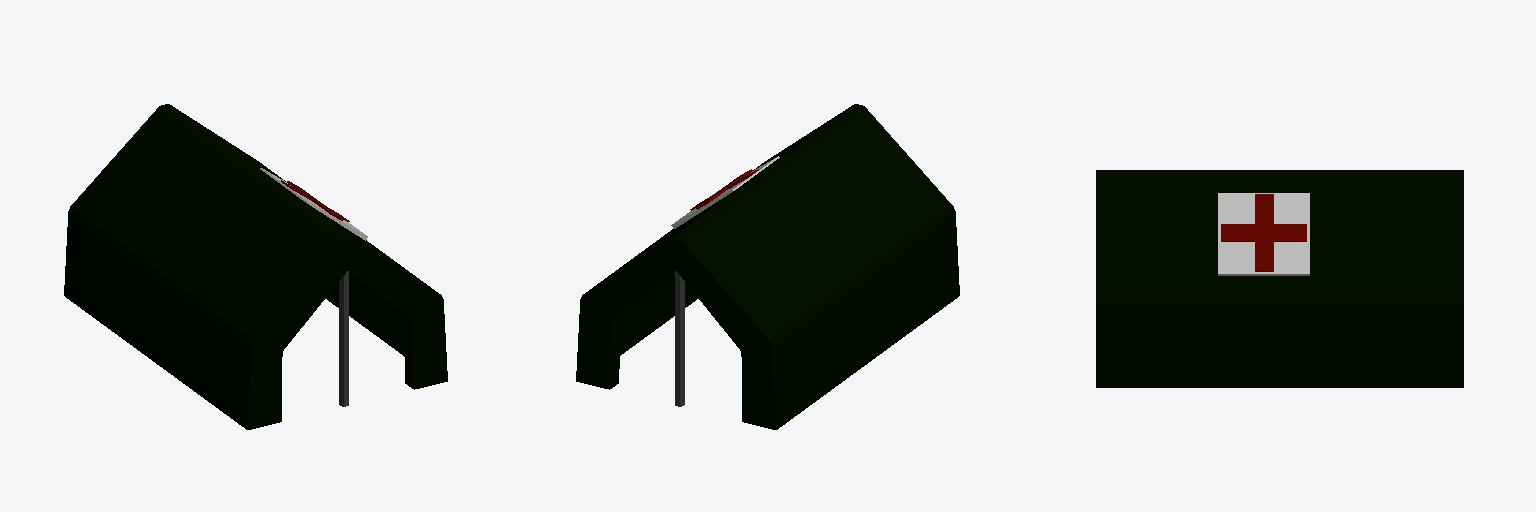
Rendered from MedicTent.obj.
3 renders of one model, left to right at view 1: azimuth 30°, elevation 25°; view 2: azimuth 150°, elevation 25°; view 3: azimuth 270°, elevation 25°, orthographic.
Visible parts, largest first — view 1: MedicTent_Cylinder.002; view 2: MedicTent_Cylinder.002; view 3: MedicTent_Cylinder.002.
Boxes of the visible parts, x1=… form: MedicTent_Cylinder.002: x1=64, y1=104, x2=447, y2=429; MedicTent_Cylinder.002: x1=576, y1=104, x2=959, y2=429; MedicTent_Cylinder.002: x1=1096, y1=170, x2=1463, y2=387.
Size of the model in its own units: 5.36 by 4.29 by 8.5.